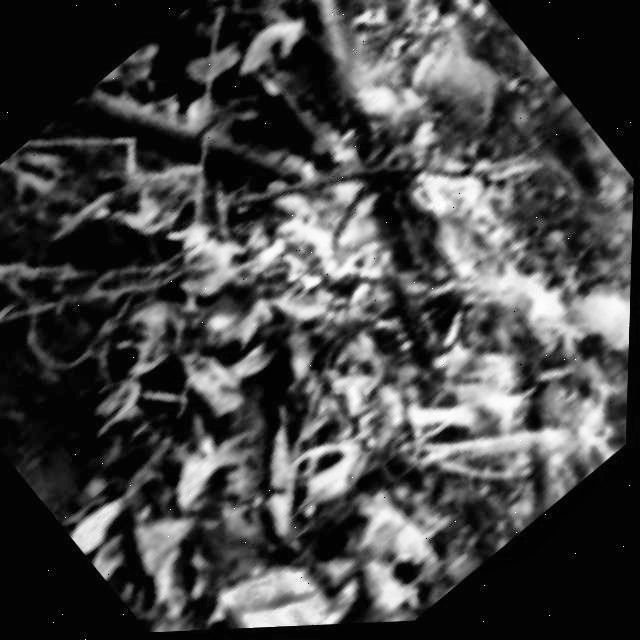Fire: (231, 49, 638, 562)
